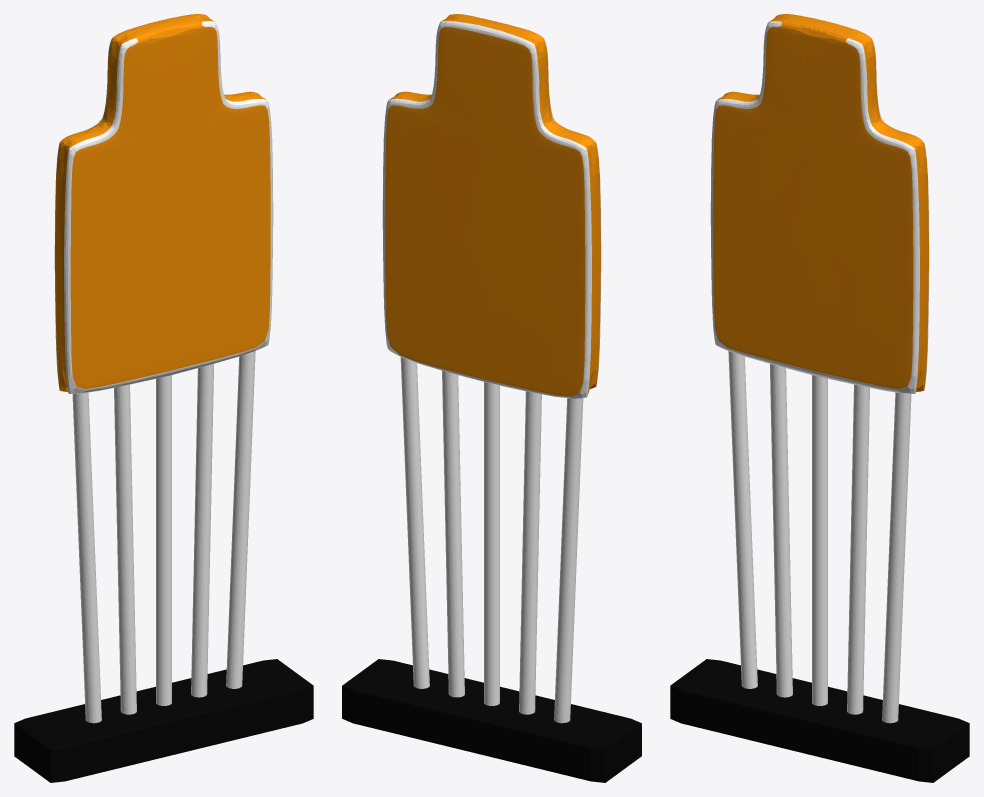
The model's file is wall.glb.
3 renders of one model, left to right at view 1: azimuth 30°, elevation 25°; view 2: azimuth 150°, elevation 25°; view 3: azimuth 330°, elevation 25°, orthographic.
Visible parts, largest first — view 1: Cube.001, Cylinder.004, Cube; view 2: Cube.001, Cylinder.004, Cube; view 3: Cube.001, Cylinder.004, Cube.
Boxes of the visible parts, bbox=[...] form: Cube.001: bbox=[54, 14, 273, 393]; Cylinder.004: bbox=[72, 351, 255, 723]; Cube: bbox=[14, 659, 313, 782]; Cube.001: bbox=[382, 14, 601, 398]; Cylinder.004: bbox=[400, 357, 583, 723]; Cube: bbox=[342, 659, 641, 782]; Cube.001: bbox=[710, 14, 929, 393]; Cylinder.004: bbox=[728, 351, 911, 723]; Cube: bbox=[670, 659, 969, 782].
Bounding box in the file's own units: 0.75 × 1.95 × 0.2.
